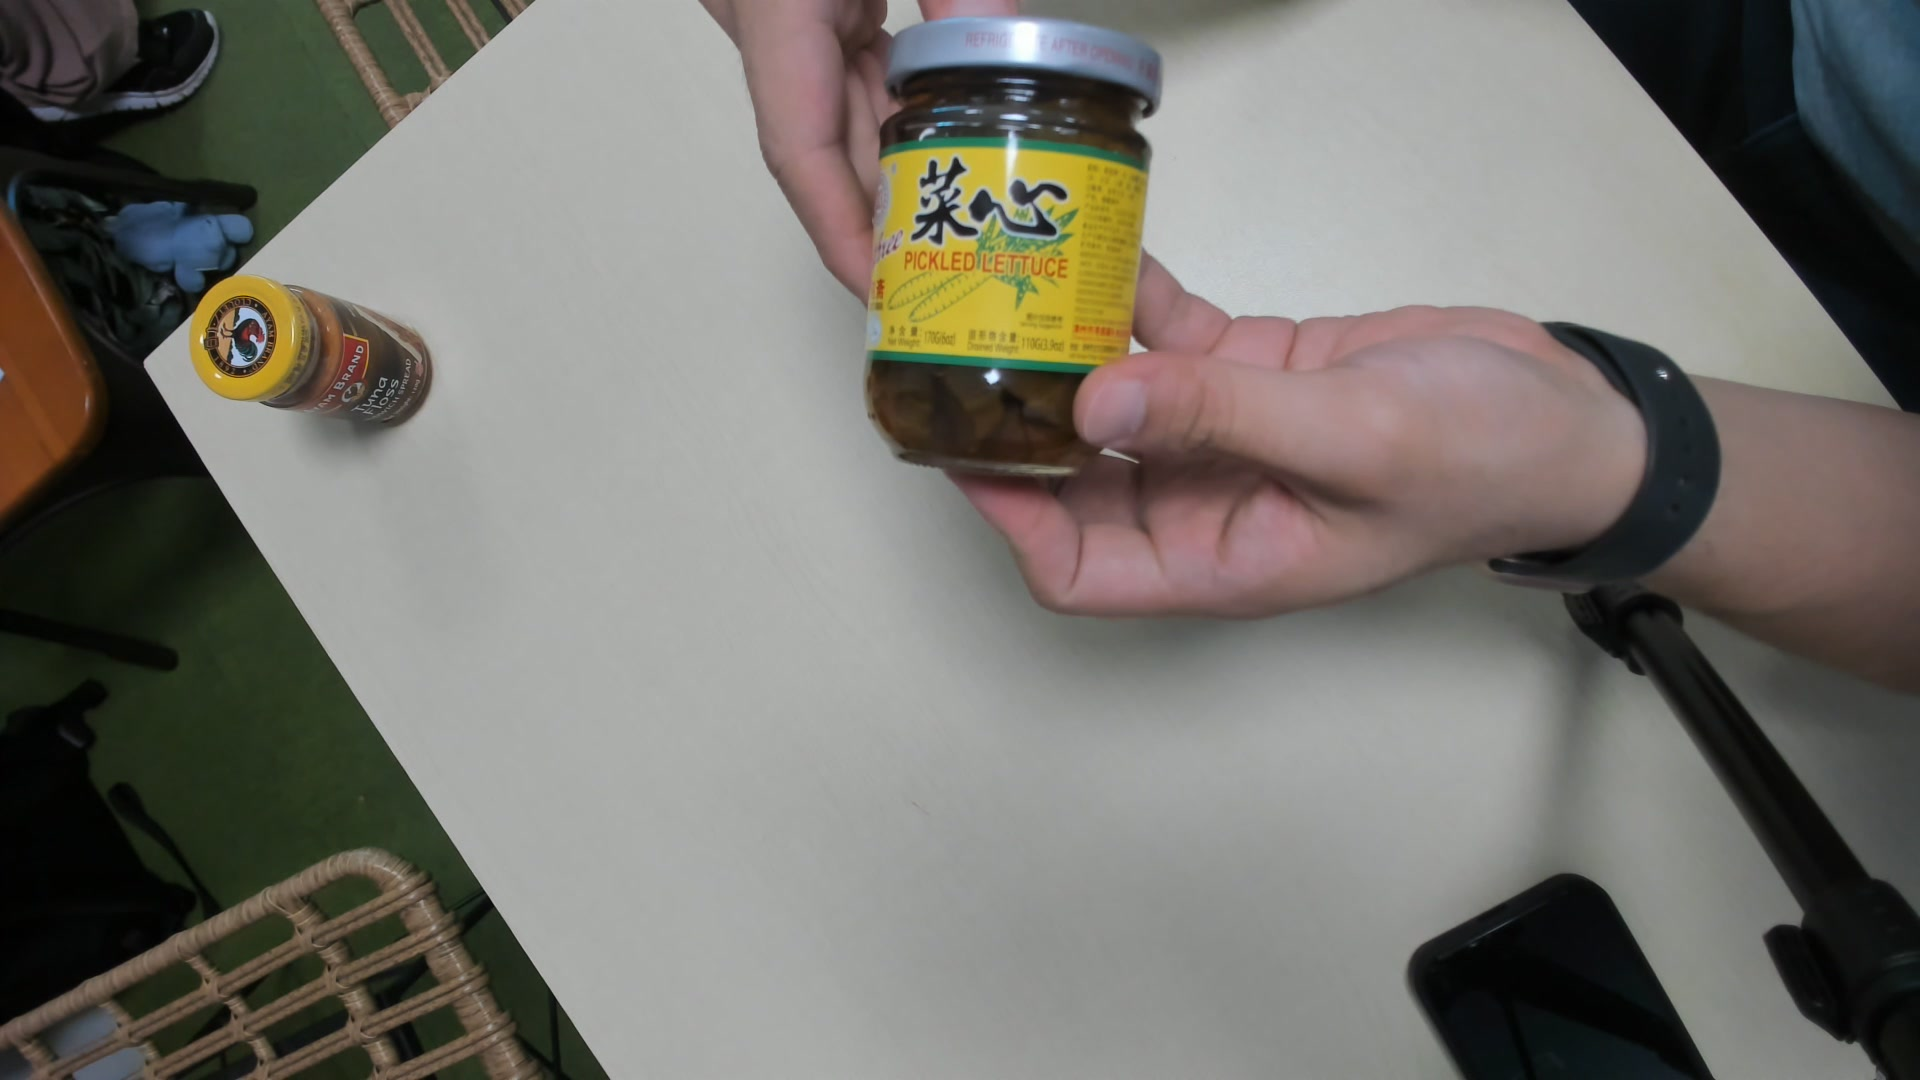OtherSauceDressing_200-299g_Halal_NonHealthy: (866, 20, 1160, 476)
